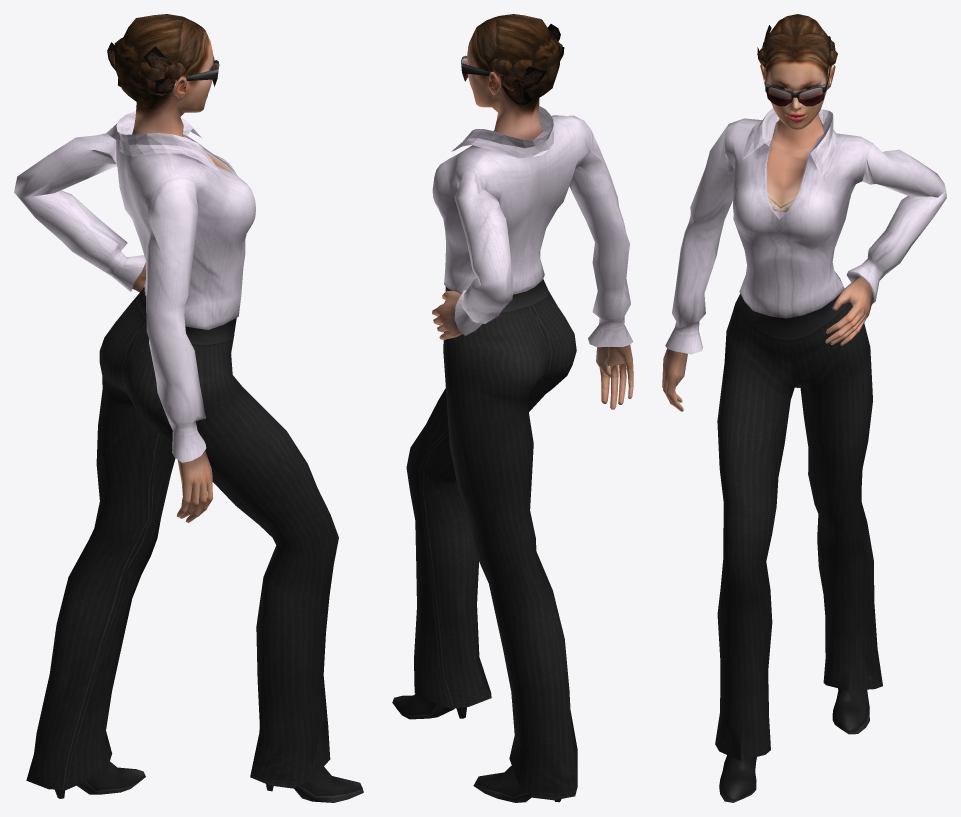
3 renders of one model, left to right at view 1: azimuth 30°, elevation 25°; view 2: azimuth 150°, elevation 25°; view 3: azimuth 270°, elevation 25°, orthographic. The views are drawn at different scales.
Visible parts, largest first — view 1: female_mod (×5); view 2: female_mod (×6); view 3: female_mod (×7).
Part boxes in pixels (x1,y1,x2,y2): female_mod (×5): [14, 14, 363, 802]; female_mod (×6): [392, 14, 633, 802]; female_mod (×7): [662, 14, 946, 802].
Size of the model in its own units: 62.9 by 65.21 by 179.
